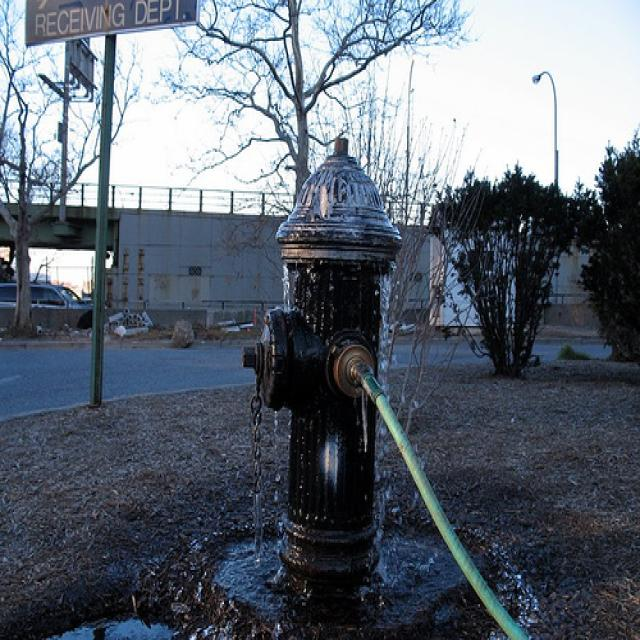Vehicle: (0, 283, 93, 333)
